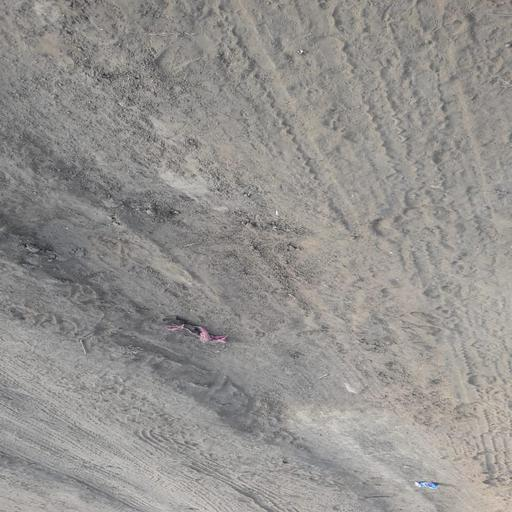vehicle_track: (206, 0, 512, 512)
